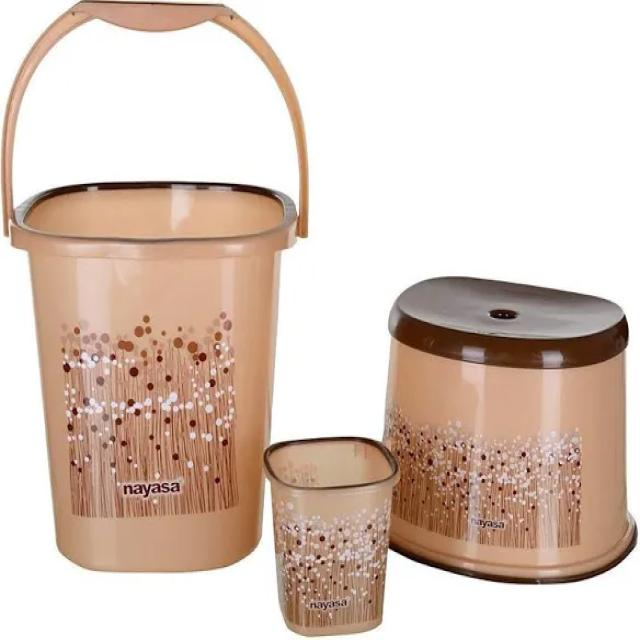plastic_box: (37, 127, 270, 578), (384, 257, 621, 591), (271, 426, 413, 635)
